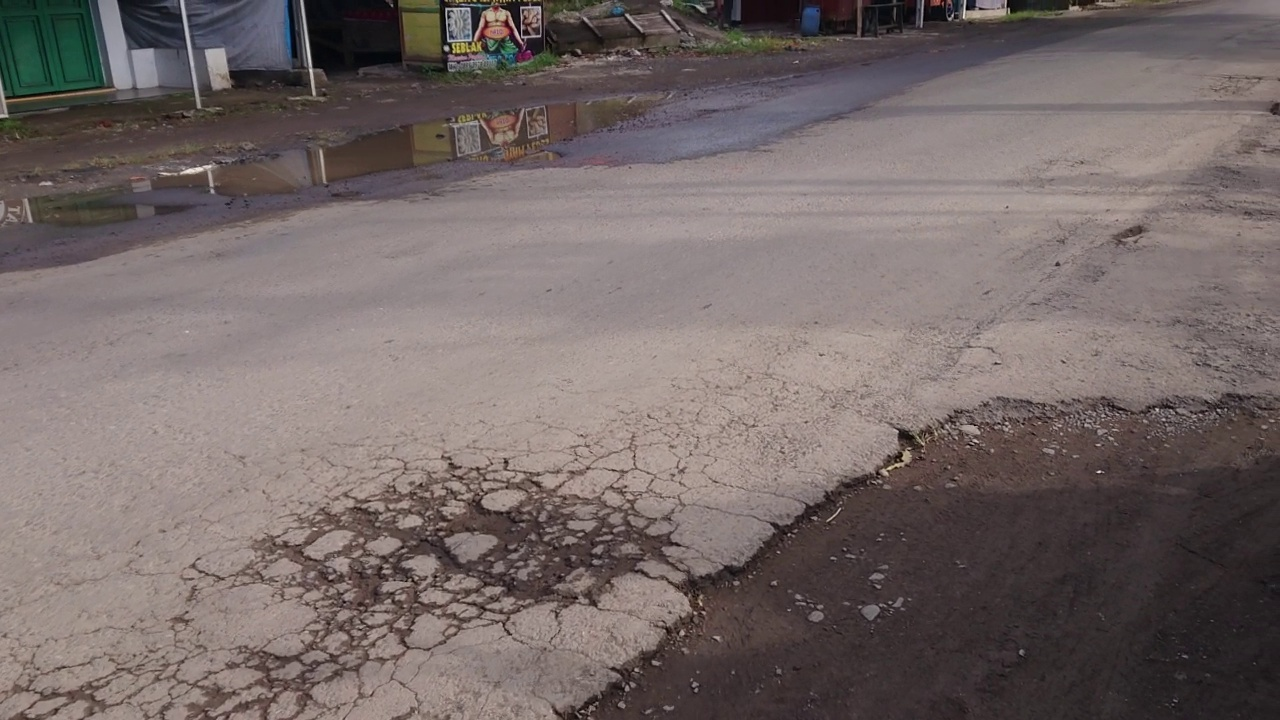Retak: (230, 469, 639, 710), (666, 371, 812, 498), (1197, 274, 1280, 374)
